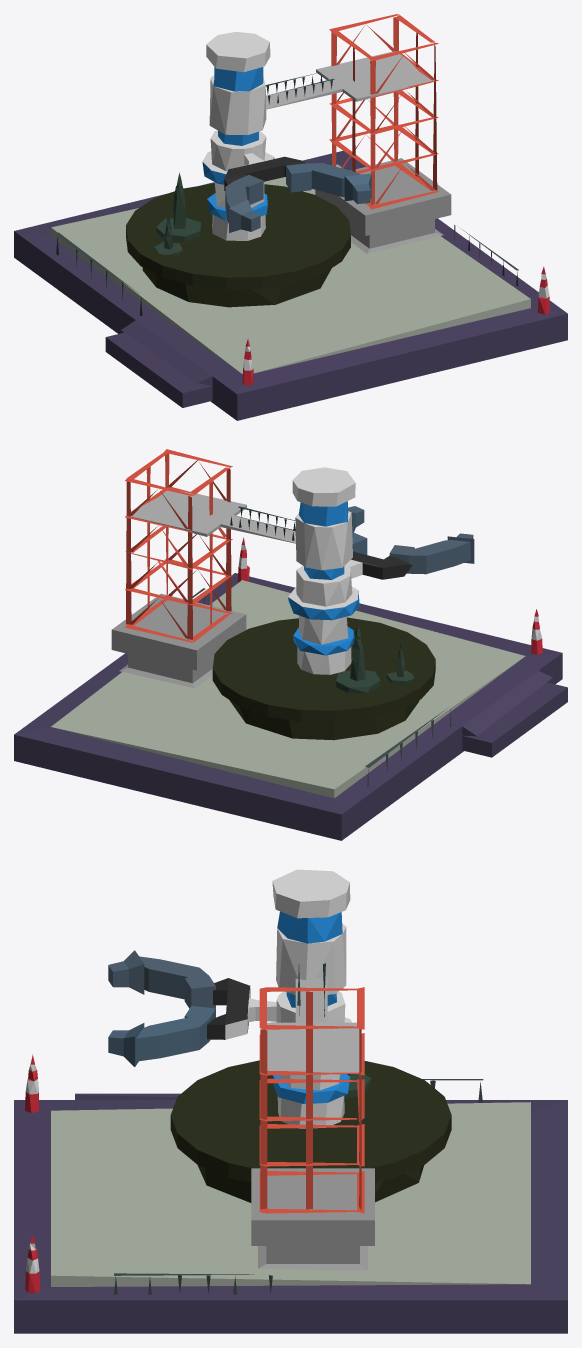
The model's file is STATION.fbx.
The picture shows the model from 3 angles, top to bottom: view 1: azimuth 30°, elevation 25°; view 2: azimuth 150°, elevation 25°; view 3: azimuth 270°, elevation 25°; orthographic projection. The views are drawn at different scales.
Parts seen in each view (by area): view 1: Cylinder.001, Cube.007, Cube.006; view 2: Cylinder.001, Cube.006, Cube.007; view 3: Cylinder.001, Cube.006, Cube.007.
Boxes of the visible parts, bbox=[...] form: Cylinder.001: bbox=[14, 14, 567, 420]; Cube.007: bbox=[286, 163, 371, 204]; Cube.006: bbox=[225, 175, 263, 232]; Cylinder.001: bbox=[14, 449, 567, 840]; Cube.006: bbox=[389, 533, 474, 574]; Cube.007: bbox=[348, 506, 367, 554]; Cylinder.001: bbox=[14, 869, 567, 1333]; Cube.006: bbox=[108, 950, 215, 1008]; Cube.007: bbox=[108, 1005, 215, 1066].
Size of the model in its own units: 1171 by 802 by 1254.
